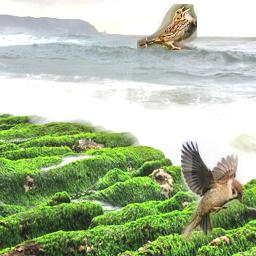Sparrow: (181, 141, 243, 243), (137, 4, 197, 50)
